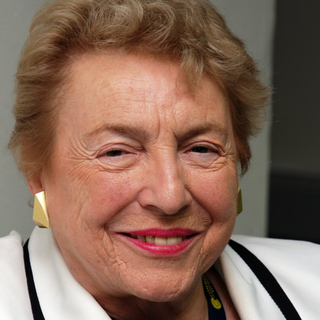eye: (180, 139, 224, 162), (93, 145, 136, 164)
